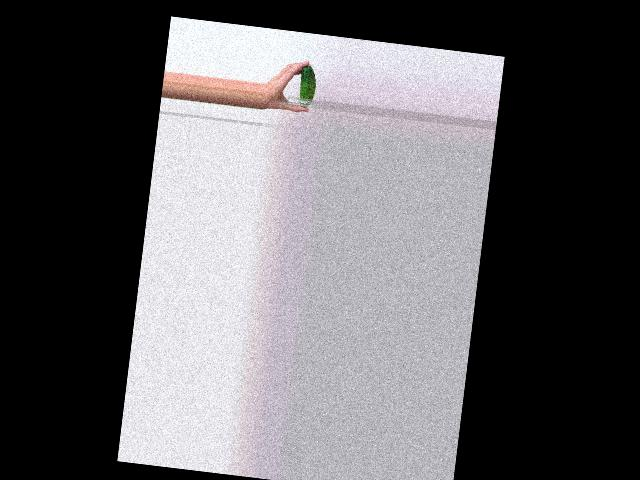cucumber: (297, 64, 318, 108)
